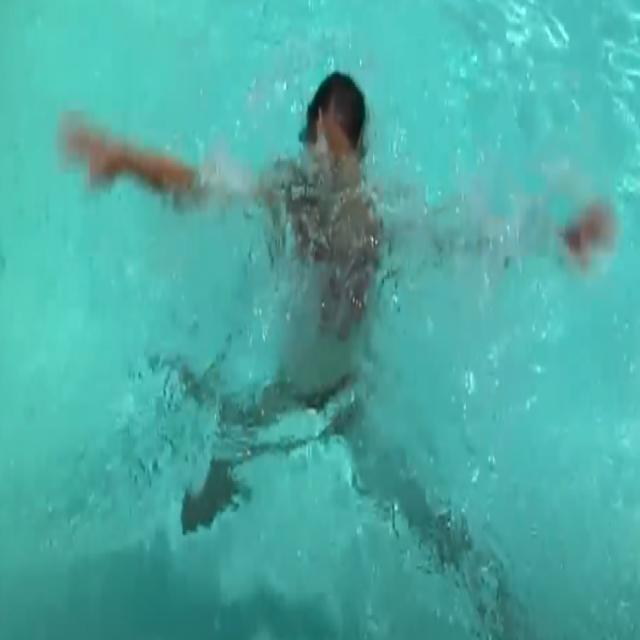Drowning: (41, 37, 630, 600)
